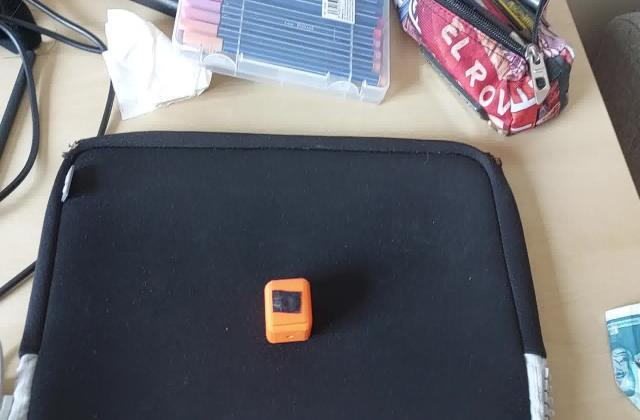black: (268, 288, 304, 318)
sticker: (260, 276, 315, 346)
